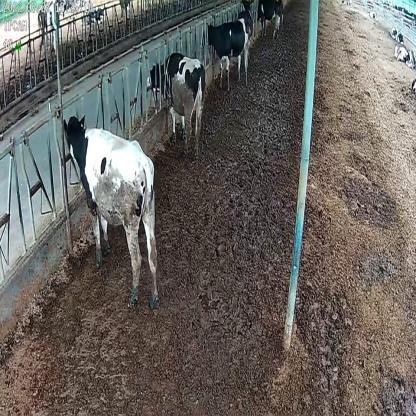cow: (62, 114, 160, 306), (144, 52, 204, 158), (200, 10, 256, 94)
